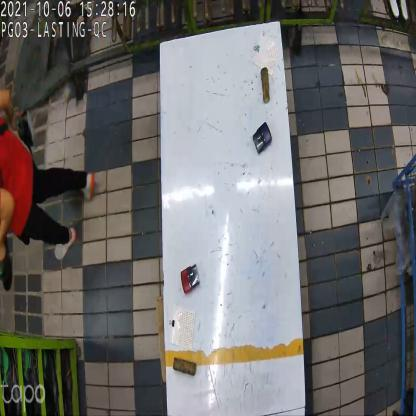stamp: (180, 261, 200, 297), (254, 121, 272, 155)
